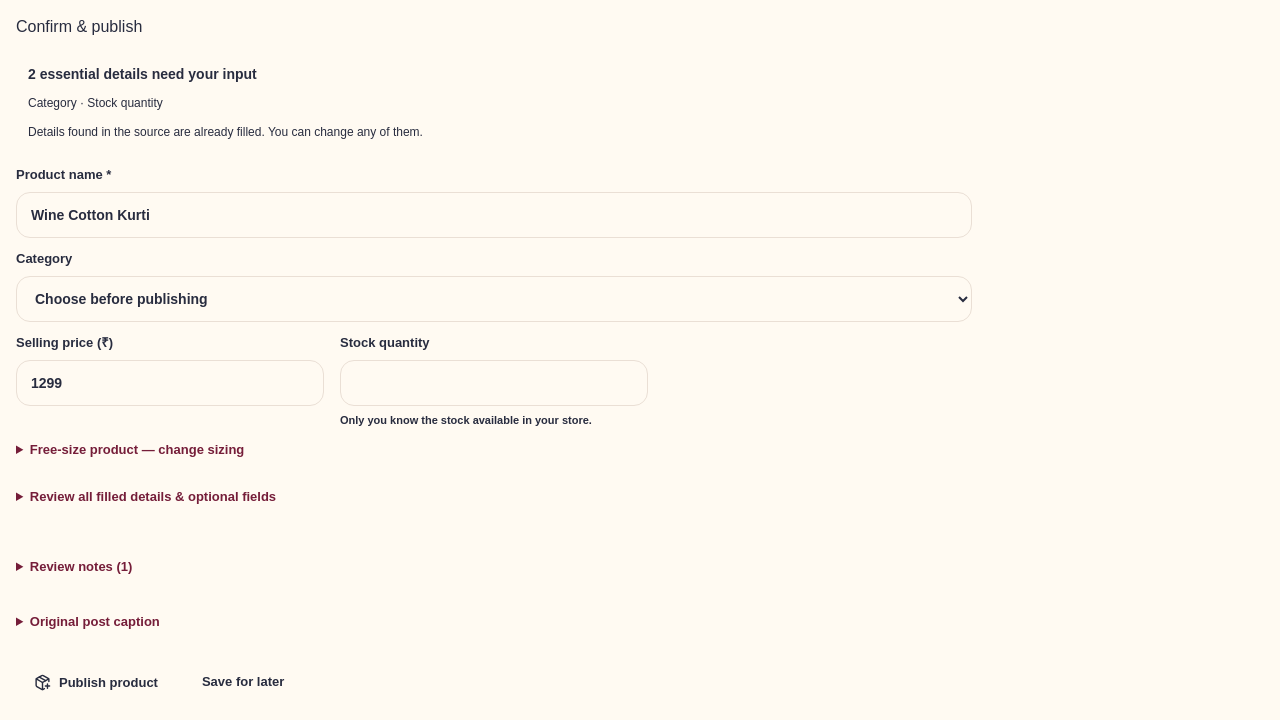
Test: a rejected draft save preserves the review and edits for retry
(page scrolled)
Expected: the field showing "Wine Cotton Kurti" is shown, [16,192,972,238]
What coordinates should you click on to do the following:
click the button "Save for later"
I would click on:
 (243, 682)
Its box is [186,660,300,704].
(page scrolled)
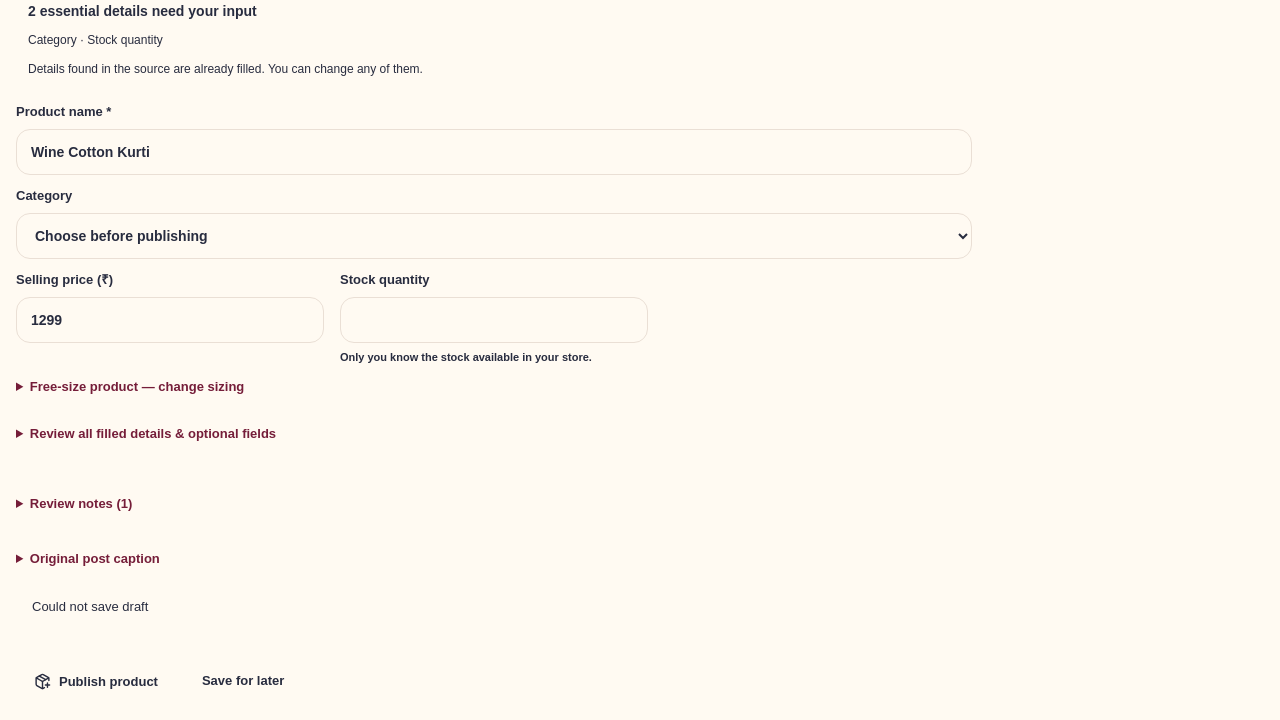
Expected: the field showing "Wine Cotton Kurti" is shown, [16,129,972,175]
Now the message reads "Could not save draft", box [32,599,148,614]
